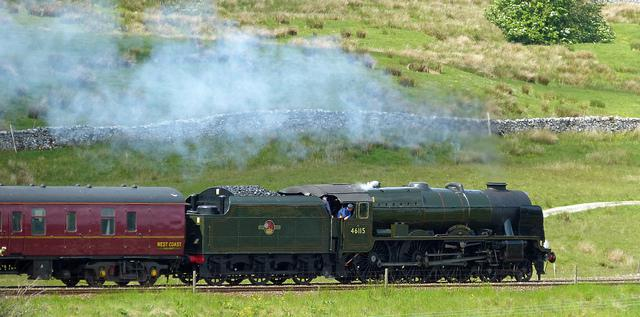Train: (3, 181, 563, 289)
